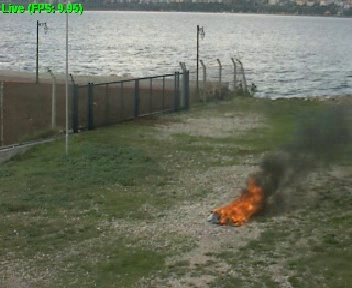fire: (214, 187, 256, 224)
smoke: (256, 154, 294, 189)
